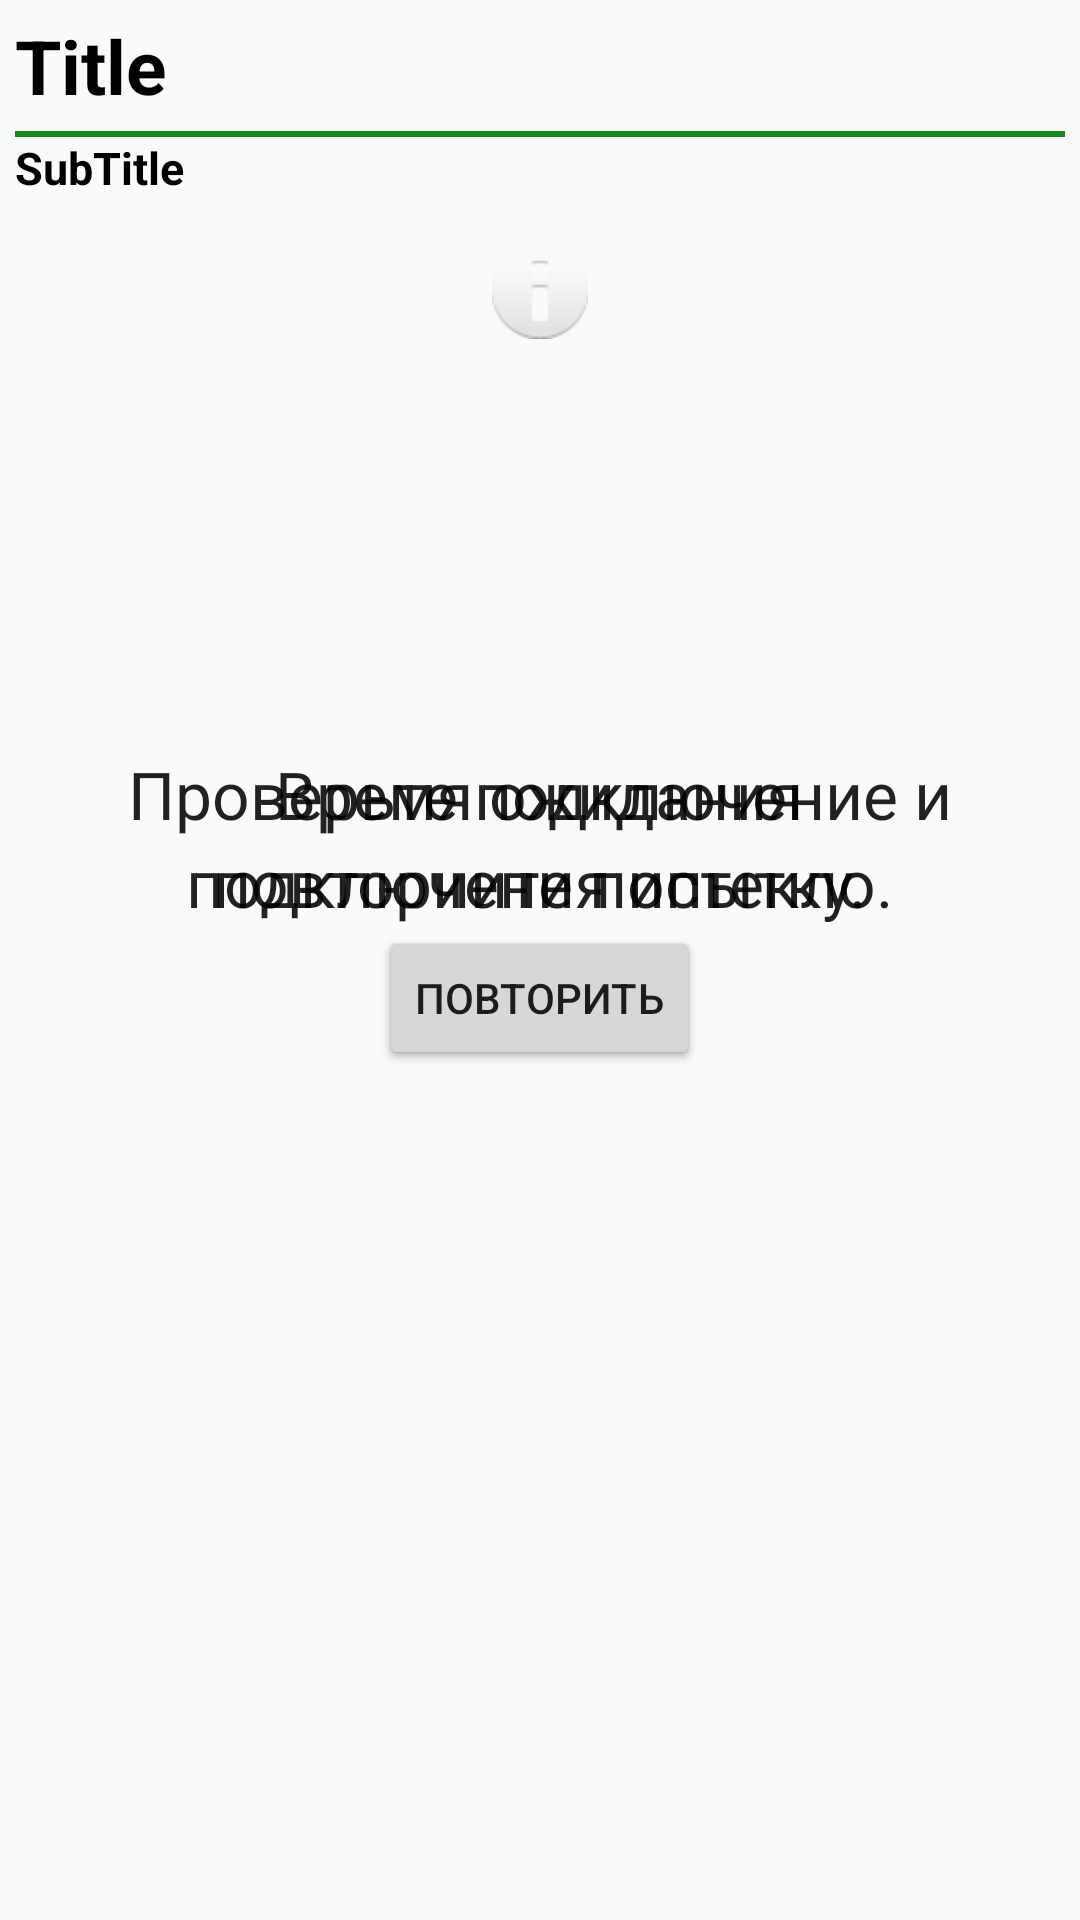

Where to tap for icons on this 1080px×1920px app screen, as [x,y]:
info: [540,300]
